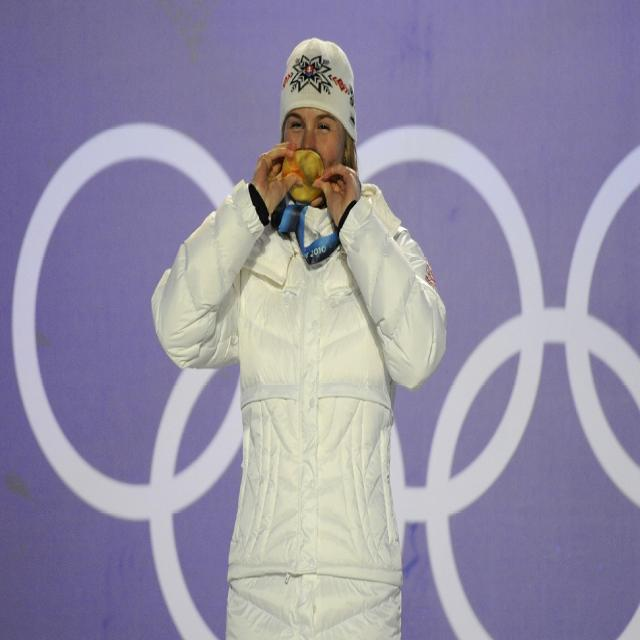nomask: (282, 92, 342, 200)
